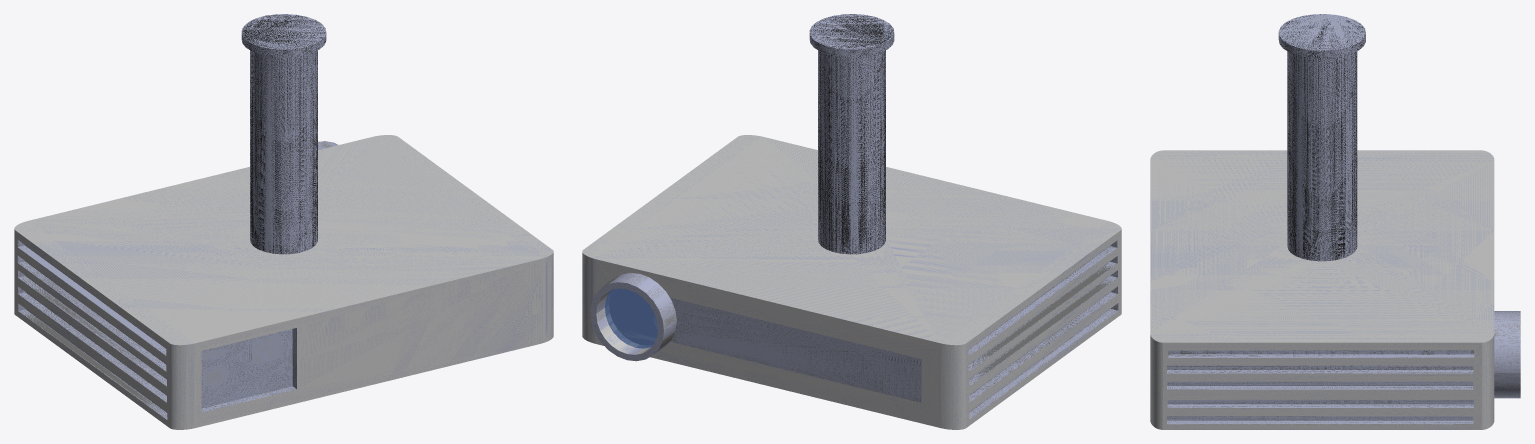
File: Beamer.fbx
The picture shows the model from 3 angles, left to right: view 1: azimuth 30°, elevation 25°; view 2: azimuth 150°, elevation 25°; view 3: azimuth 270°, elevation 25°; orthographic projection. The views are drawn at different scales.
Visible parts, largest first — view 1: Model; view 2: Model; view 3: Model.
Boxes of the visible parts, x1,y1,x2,y2 form: Model: [14, 14, 553, 429]; Model: [582, 14, 1121, 429]; Model: [1150, 14, 1520, 429].
Size of the model in its own units: 0.52 by 0.38 by 0.4233.
